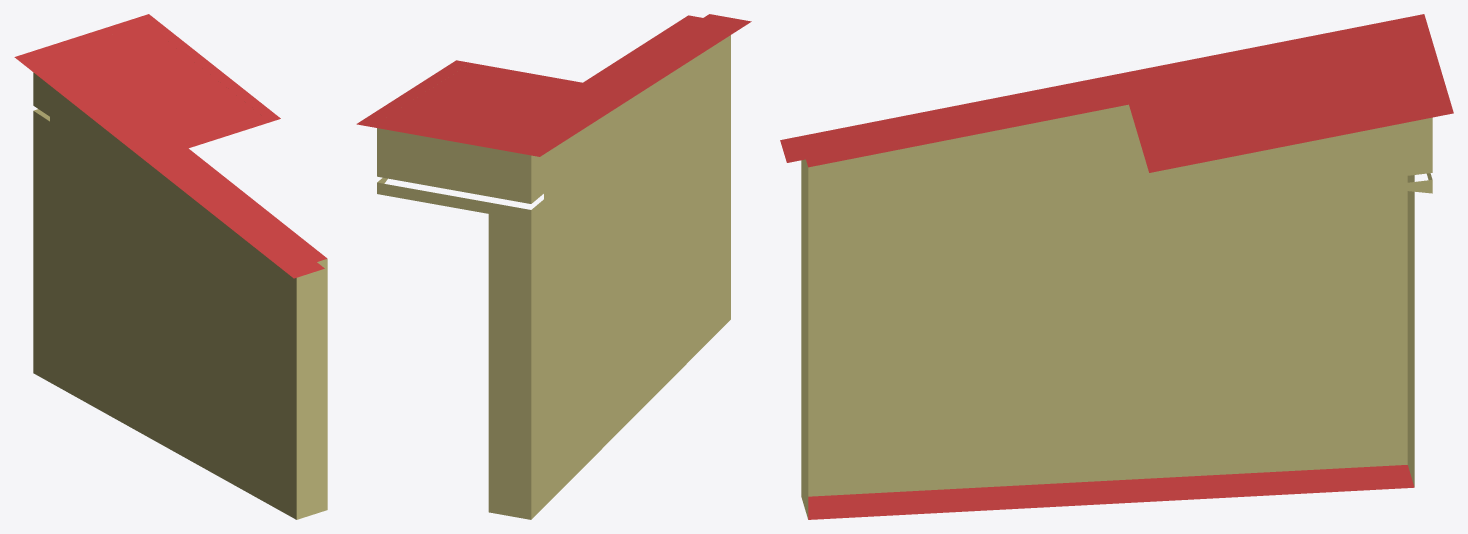
The picture shows the model from 3 angles, left to right: view 1: azimuth 30°, elevation 25°; view 2: azimuth 150°, elevation 25°; view 3: azimuth 270°, elevation 25°; orthographic projection. The views are drawn at different scales.
Bounding box in the file's own units: 3.58 × 8.81 × 6.38.
